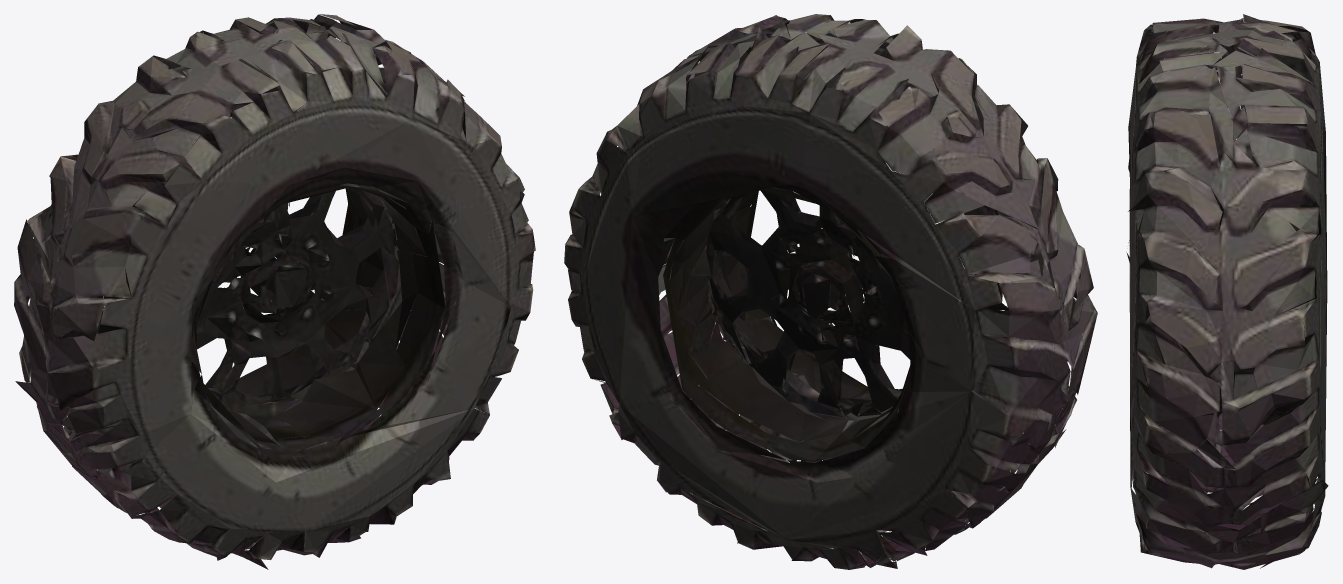
File: monster_tire.glb
The picture shows the model from 3 angles, left to right: view 1: azimuth 30°, elevation 25°; view 2: azimuth 150°, elevation 25°; view 3: azimuth 270°, elevation 25°; orthographic projection.
Visible parts, largest first — view 1: geometry_0; view 2: geometry_0; view 3: geometry_0.
Boxes of the visible parts, left/top/right/bottom form: geometry_0: left=14, top=14, right=535, bottom=569; geometry_0: left=564, top=14, right=1097, bottom=569; geometry_0: left=1126, top=14, right=1328, bottom=569.
Bounding box in the file's own units: 1.95 × 1.99 × 0.7253.
Materials: 1 (1 with a texture image).
